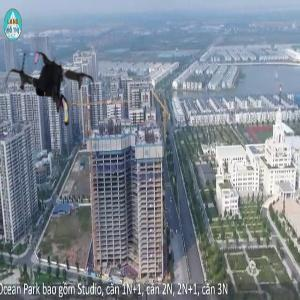drone: (2, 44, 100, 142)
